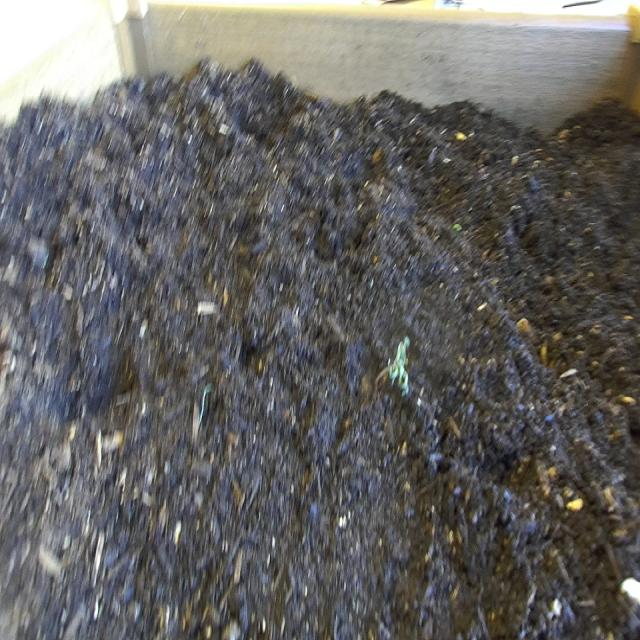Unhealthy: (371, 329, 416, 405)
